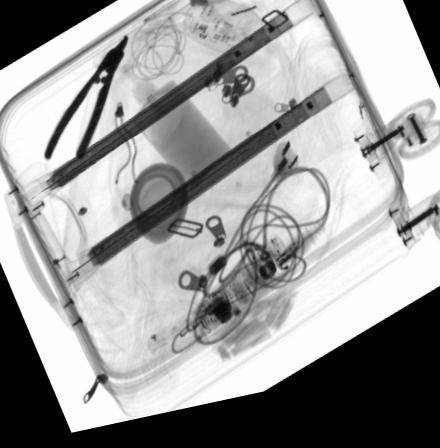Pliers: (42, 39, 127, 166)
